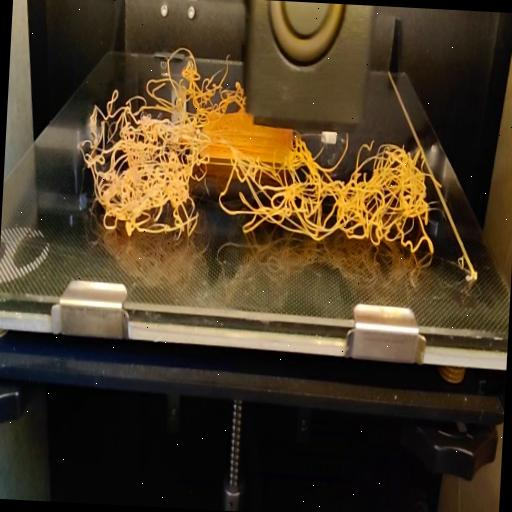spaghetti: (68, 117, 444, 261), (90, 35, 250, 132)
